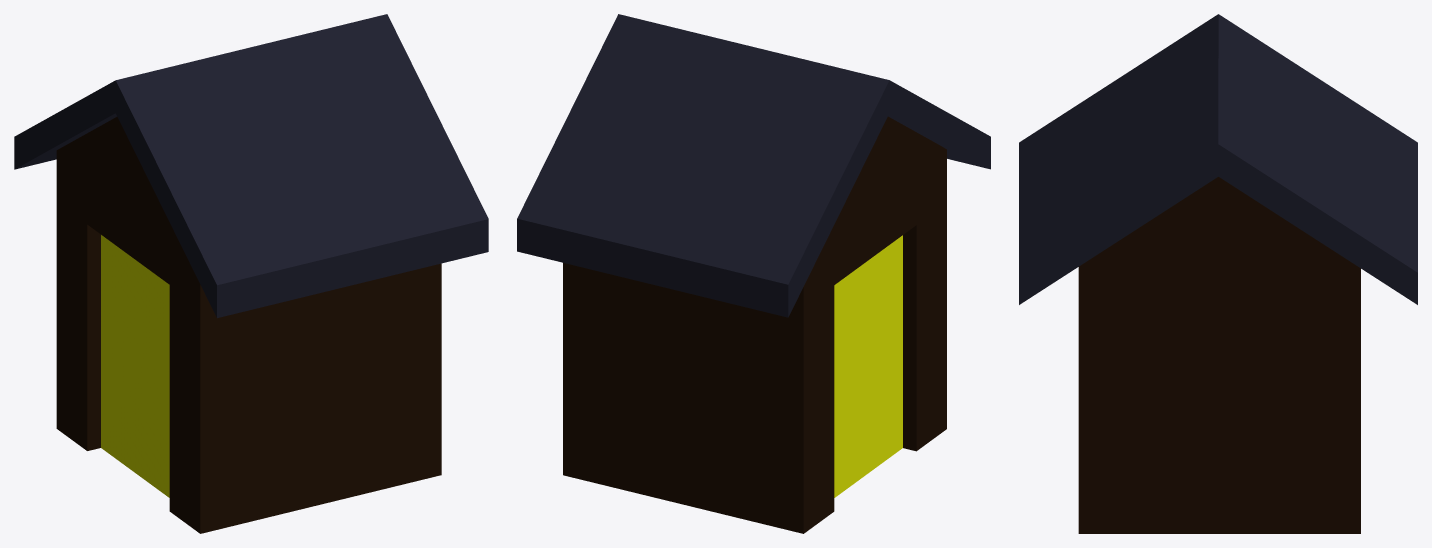
The model's file is Nhouse.FBX.
3 views of the same model, side by side, from view 1: azimuth 30°, elevation 25°; view 2: azimuth 150°, elevation 25°; view 3: azimuth 270°, elevation 25° (orthographic).
Parts seen in each view (by area): view 1: Box001; view 2: Box001; view 3: Box001.
Part boxes in pixels (x1,y1,x2,y2): Box001: (14,14,488,533); Box001: (517,14,990,533); Box001: (1019,14,1417,533).
Size of the model in its own units: 66.66 by 94.92 by 86.21.
